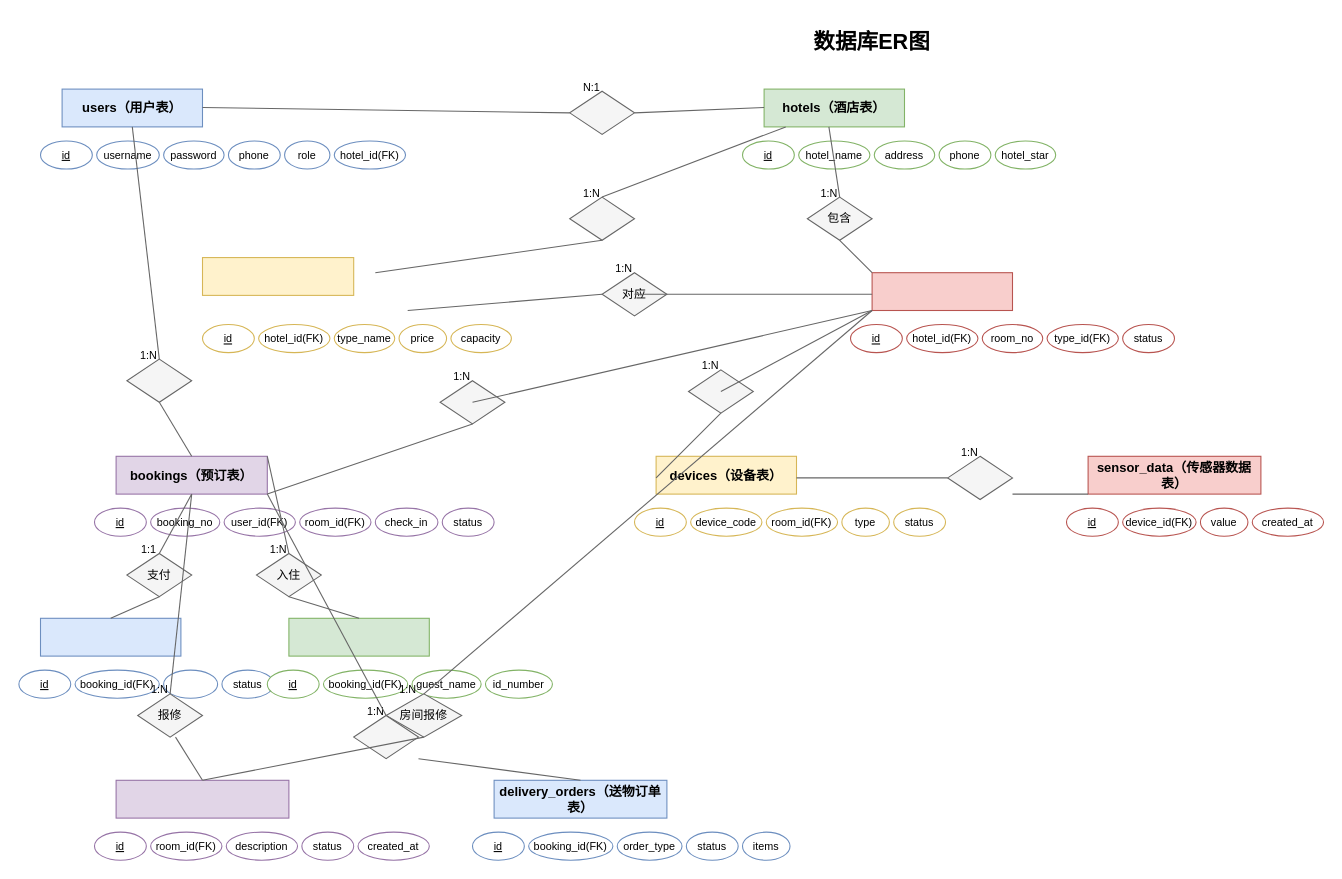
The diagram is 1342 pixels wide and 879 high, and some of its shapes have lost their labels. The shapes that lost their labels are listed below. From the top down, each one's centre as x and y in pixels, then its label:
point 601,112: 属于
point 601,218: 拥有
point 277,275: room_types（房型表）
point 942,291: rooms（房间表）
point 159,380: 预订
point 720,391: 配置
point 472,402: 被预订
point 980,477: 产生
point 110,636: payments（支付表）
point 358,636: guests（住客表）
point 190,683: amount
point 385,736: 下单
point 202,798: maintenance_tickets（维修工单表）
